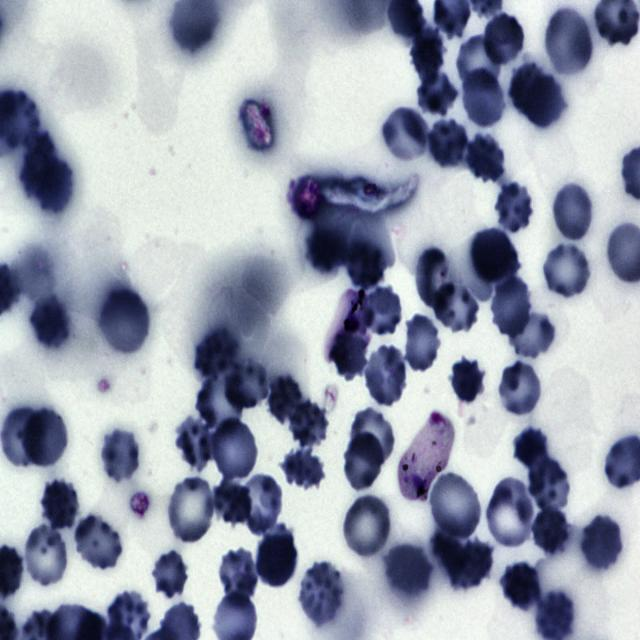red blood cell: (164, 474, 217, 547), (428, 470, 482, 540), (98, 287, 151, 358), (341, 492, 394, 561), (543, 8, 594, 78), (20, 521, 70, 590), (486, 479, 535, 549), (210, 418, 260, 483), (21, 406, 70, 471), (298, 562, 346, 627), (72, 513, 124, 572), (381, 107, 432, 166), (470, 226, 520, 286), (489, 274, 534, 340), (459, 68, 506, 130), (495, 360, 544, 419), (550, 182, 596, 244), (431, 279, 481, 336), (195, 374, 244, 432), (448, 533, 495, 593), (508, 307, 558, 362), (580, 512, 624, 574), (0, 408, 46, 467), (363, 346, 408, 406), (223, 355, 270, 412), (348, 408, 394, 466), (28, 294, 74, 352), (456, 34, 501, 92), (481, 12, 527, 68), (342, 432, 384, 493), (412, 246, 452, 310), (256, 534, 300, 592), (384, 544, 433, 596), (544, 245, 590, 299), (99, 427, 142, 484), (402, 314, 442, 374), (528, 454, 569, 512), (194, 326, 238, 380), (286, 397, 331, 449), (426, 118, 469, 172), (218, 548, 259, 604), (175, 414, 216, 470), (500, 559, 542, 613), (331, 326, 370, 383), (410, 25, 446, 86), (523, 77, 566, 128), (358, 288, 404, 335), (280, 446, 327, 492), (40, 478, 80, 532), (494, 181, 532, 237), (242, 477, 280, 533), (530, 508, 572, 558), (509, 64, 548, 116), (414, 71, 459, 116), (510, 312, 556, 356), (468, 132, 507, 182), (267, 376, 306, 426), (214, 476, 252, 527), (152, 549, 190, 598), (451, 358, 483, 403), (514, 426, 548, 468)
trophozoite: (398, 412, 456, 503), (326, 289, 368, 363)
